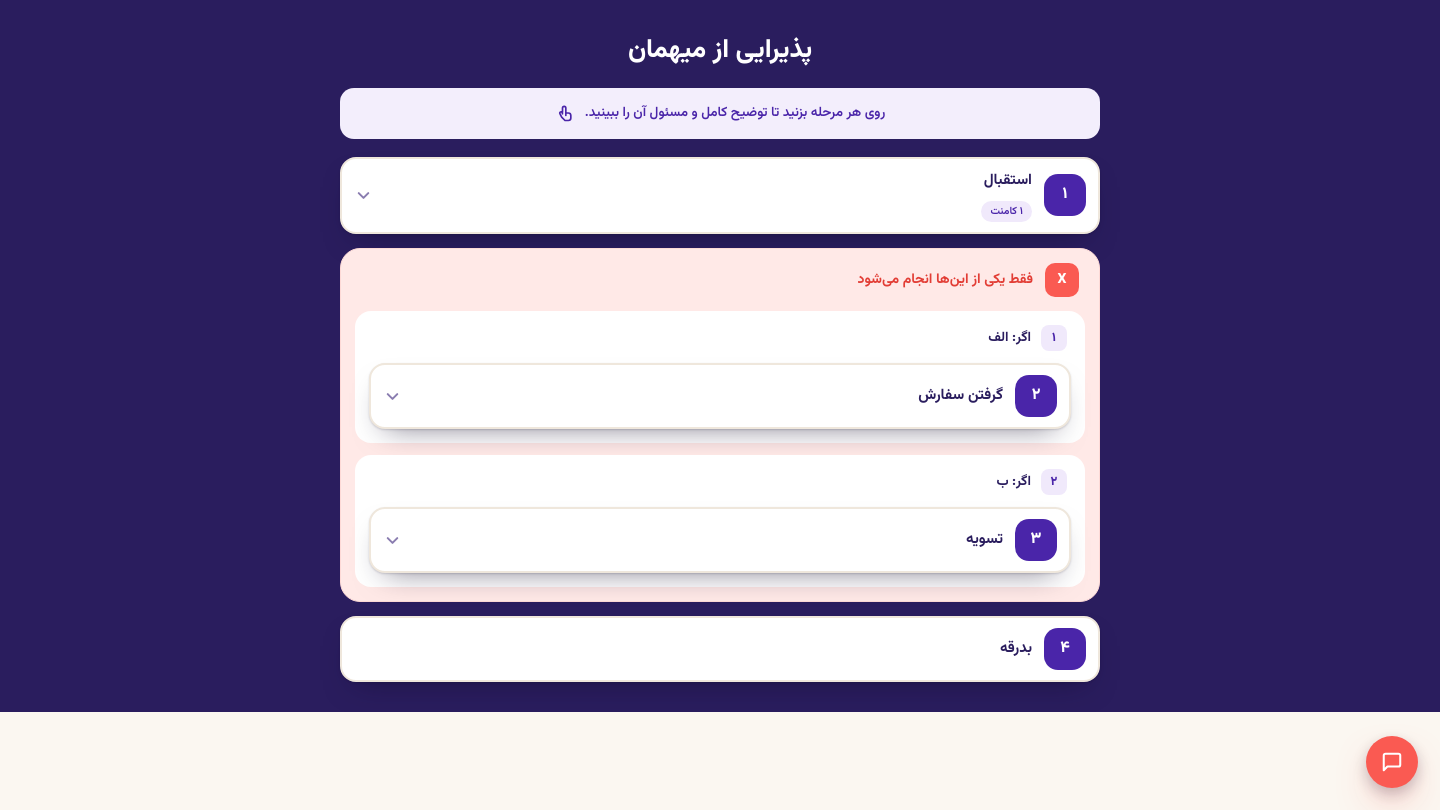
Test: Steps — comments on a step › a step inside a branch gets neither chip nor button
The width and height of the screenshot is (1440, 810).
Expected: the text "۱ کامنت" is shown, [982,200,1032,222]
Click the text "گرفتن سفارش" at (961, 396), box [918,384,1003,408]
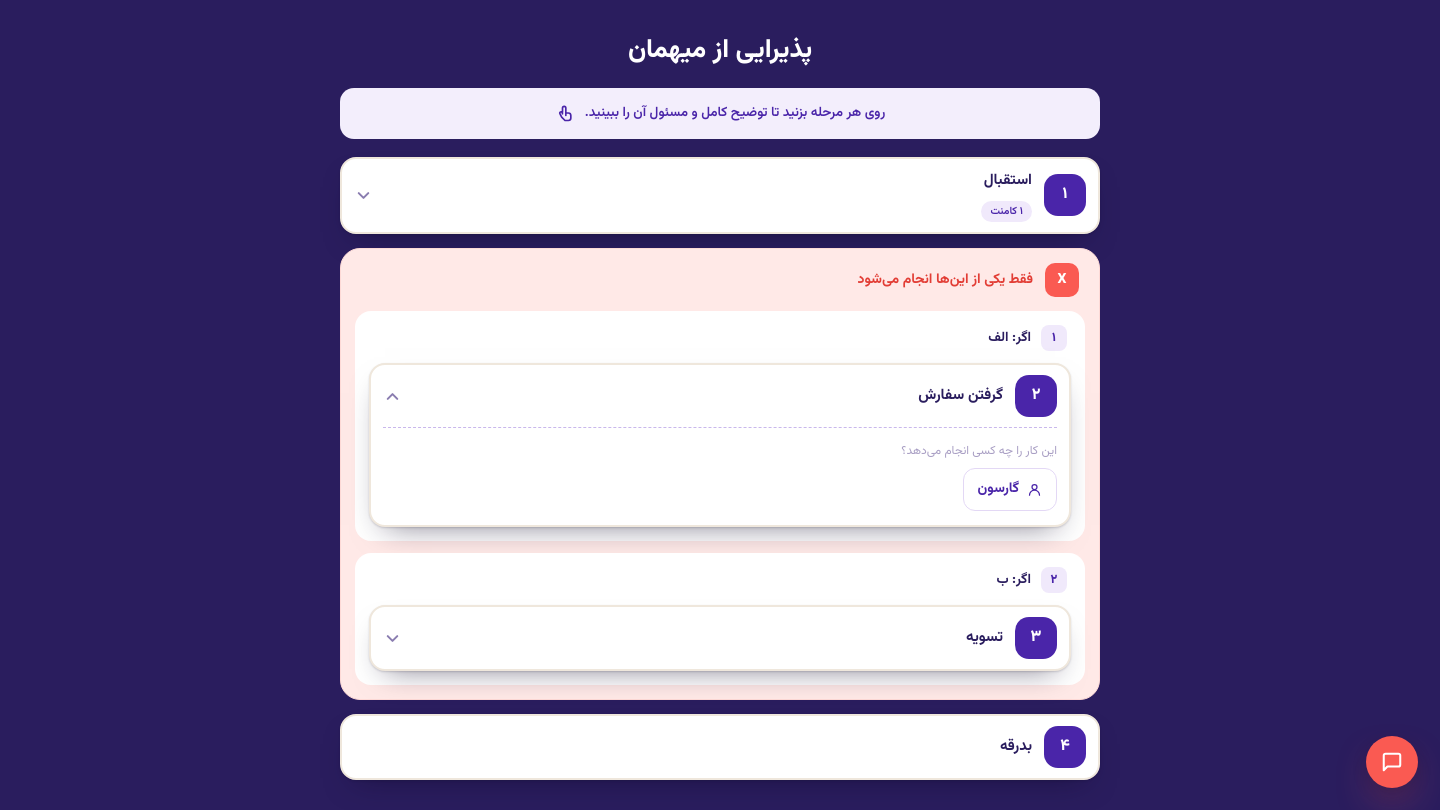
Expected: the button "گارسون" is shown, [963,468,1057,511]
